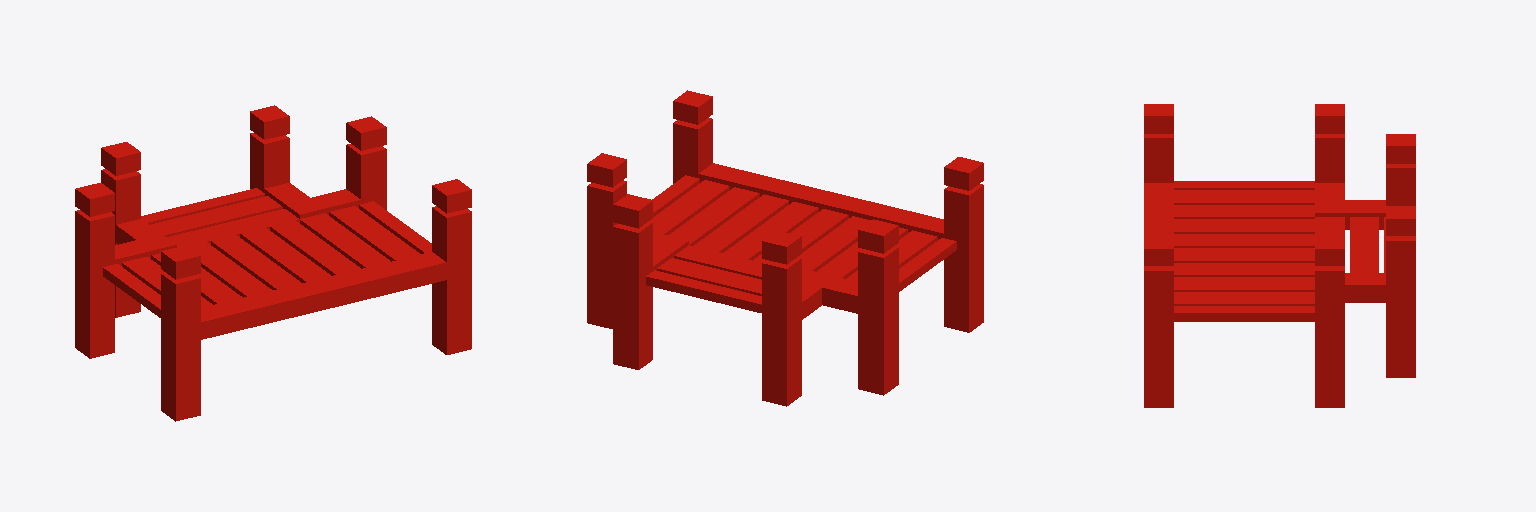
3 renders of one model, left to right at view 1: azimuth 30°, elevation 25°; view 2: azimuth 150°, elevation 25°; view 3: azimuth 270°, elevation 25°, orthographic.
Visible parts, largest first — view 1: cube; view 2: cube; view 3: cube.
Part boxes in pixels (bbox=[...]): cube: bbox=[75, 105, 471, 421]; cube: bbox=[587, 90, 983, 406]; cube: bbox=[1144, 104, 1415, 407].
Size of the model in its own units: 1.09 by 0.5625 by 0.8672.
Materials: 1 (1 with a texture image).